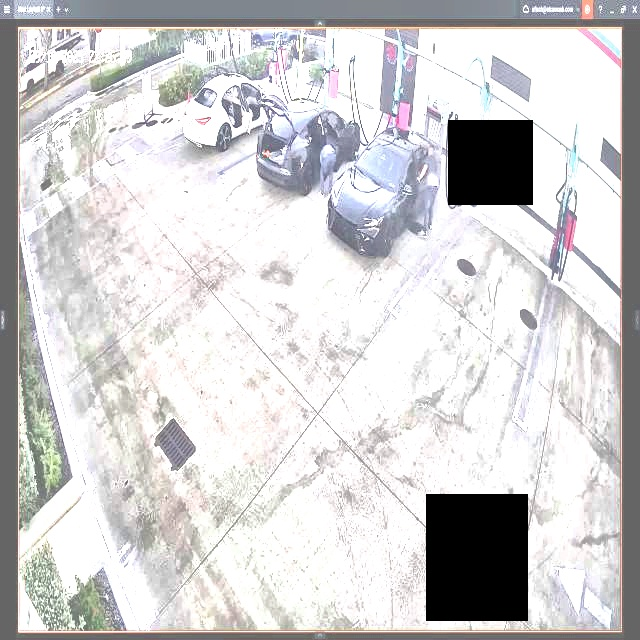Car: (326, 126, 442, 247), (258, 93, 360, 183), (182, 72, 285, 150)
